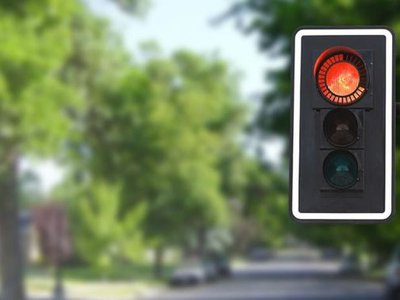trafficlight_red: (312, 41, 373, 207)
